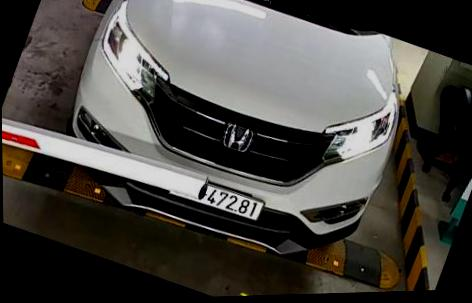License_Plate: (187, 168, 283, 237)
